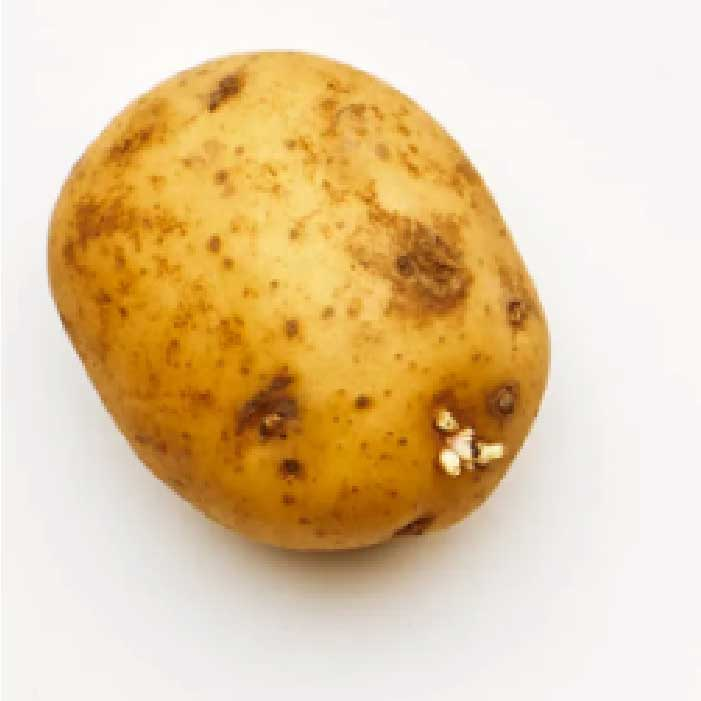Kartoffel: (48, 52, 550, 551)
